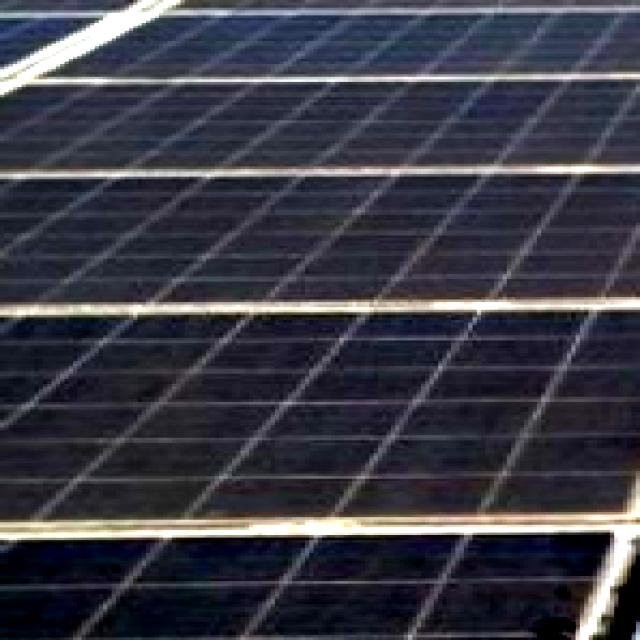dust: (0, 173, 640, 305), (276, 314, 621, 512), (0, 72, 614, 154), (0, 317, 247, 512), (284, 528, 604, 640), (113, 13, 634, 68), (0, 541, 231, 640)
